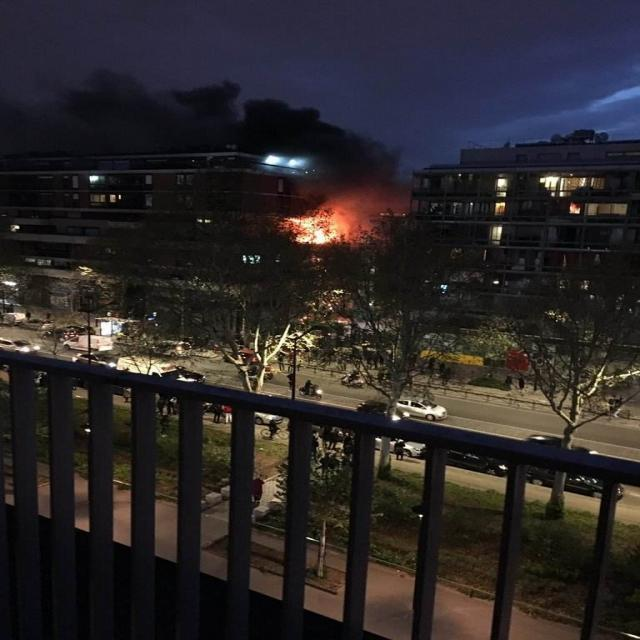fire: (269, 196, 359, 253)
